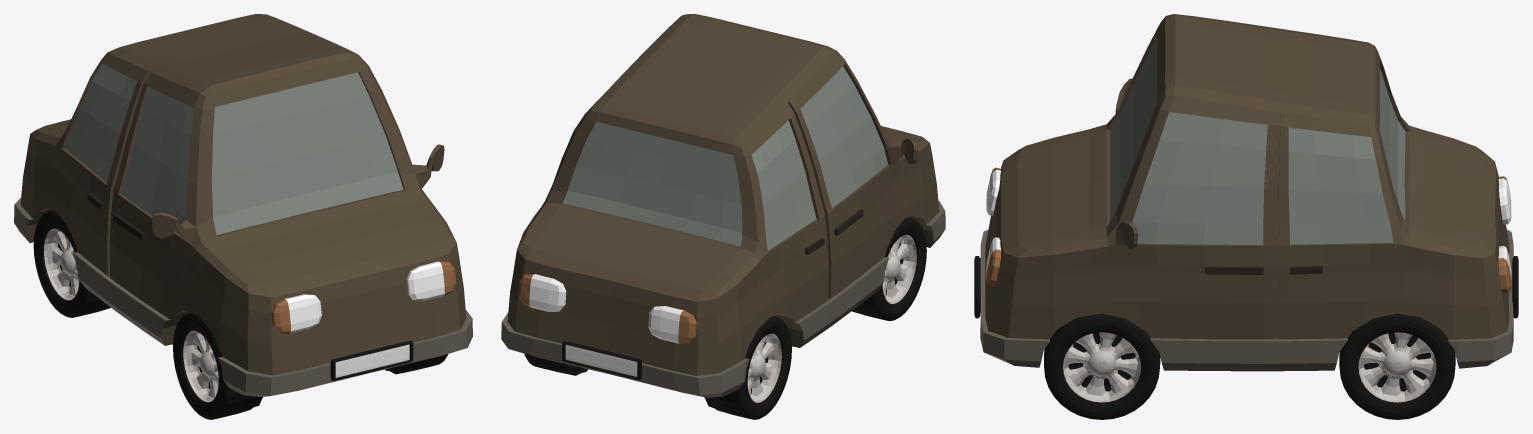
File: car2 (1).fbx
3 views of the same model, side by side, from view 1: azimuth 30°, elevation 25°; view 2: azimuth 150°, elevation 25°; view 3: azimuth 270°, elevation 25° (orthographic). The views are drawn at different scales.
Visible parts, largest first — view 1: Cube, Cylinder.006, Cylinder.004, Cube.001, Cube.004, Cube.003, Cylinder.005; view 2: Cube, Cylinder.004, Cylinder.006, Cube.002, Cube.006, Cube.005, Cylinder.007; view 3: Cube, Cylinder.005, Cylinder.007, Cube.003, Cube.005, Cube.006.
Part boxes in pixels (bbox=[...]): Cube: bbox=[14, 14, 472, 396]; Cylinder.006: bbox=[173, 312, 262, 419]; Cylinder.004: bbox=[33, 210, 110, 317]; Cube.001: bbox=[330, 341, 413, 380]; Cube.004: bbox=[271, 294, 321, 333]; Cube.003: bbox=[406, 261, 456, 300]; Cylinder.005: bbox=[385, 354, 448, 374]; Cube: bbox=[501, 14, 945, 397]; Cylinder.004: bbox=[704, 316, 791, 419]; Cylinder.006: bbox=[852, 217, 926, 321]; Cube.002: bbox=[562, 341, 641, 379]; Cube.006: bbox=[648, 306, 696, 343]; Cube.005: bbox=[518, 274, 566, 312]; Cylinder.007: bbox=[524, 353, 587, 375]; Cube: bbox=[980, 14, 1513, 371]; Cylinder.005: bbox=[1044, 313, 1160, 419]; Cylinder.007: bbox=[1339, 313, 1455, 419]; Cube.003: bbox=[986, 237, 1001, 285]; Cube.005: bbox=[1498, 245, 1511, 294]; Cube.006: bbox=[1498, 176, 1511, 224].
Bounding box in the file's own units: 485 × 467 × 737.
